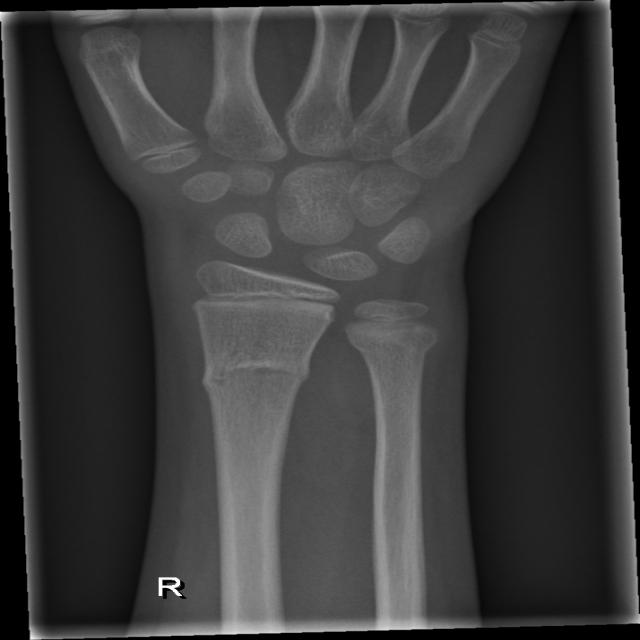radius fracture: (178, 339, 337, 429)
